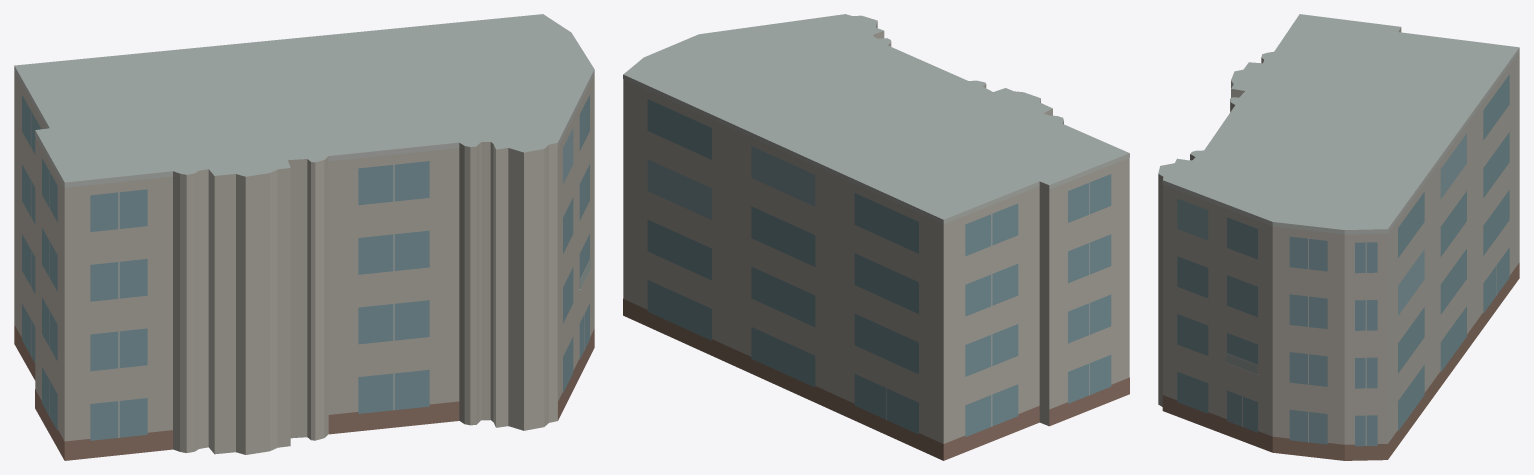
Rendered from survey-upis-32803413.glb.
3 renders of one model, left to right at view 1: azimuth 30°, elevation 25°; view 2: azimuth 150°, elevation 25°; view 3: azimuth 270°, elevation 25°, orthographic. The views are drawn at different scales.
Visible parts, largest first — view 1: survey-upis-32803413.tmp; view 2: survey-upis-32803413.tmp; view 3: survey-upis-32803413.tmp.
Boxes of the visible parts, left/top/right/bottom form: survey-upis-32803413.tmp: left=14, top=14, right=594, bottom=460; survey-upis-32803413.tmp: left=623, top=14, right=1129, bottom=460; survey-upis-32803413.tmp: left=1158, top=14, right=1519, bottom=460.
Bounding box in the file's own units: 25.71 × 12.8 × 18.17.
